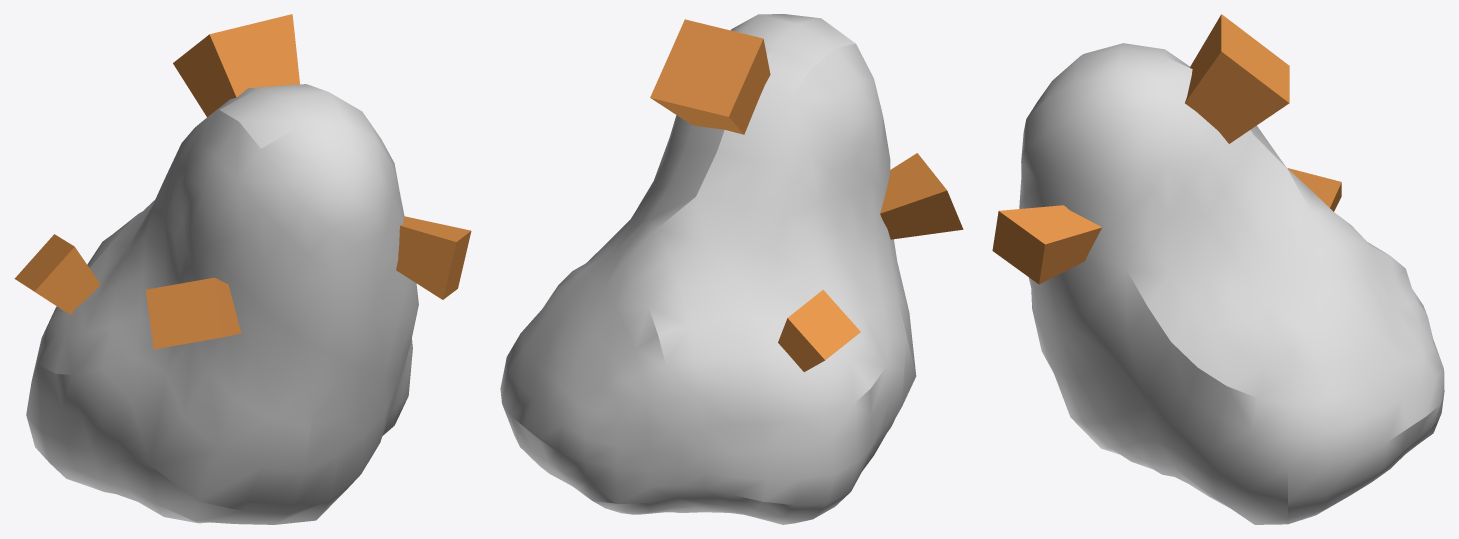
Rendered from orerock.fbx.
3 renders of one model, left to right at view 1: azimuth 30°, elevation 25°; view 2: azimuth 150°, elevation 25°; view 3: azimuth 270°, elevation 25°, orthographic. The views are drawn at different scales.
Visible parts, largest first — view 1: rock.001, Ore; view 2: rock.001, Ore; view 3: rock.001, Ore.
Part boxes in pixels (bbox=[...]): rock.001: bbox=[26, 84, 418, 524]; Ore: bbox=[14, 14, 471, 349]; rock.001: bbox=[500, 14, 916, 524]; Ore: bbox=[650, 19, 963, 371]; rock.001: bbox=[1019, 43, 1444, 524]; Ore: bbox=[992, 14, 1341, 284].
Bounding box in the file's own units: 106 × 133 × 122.
